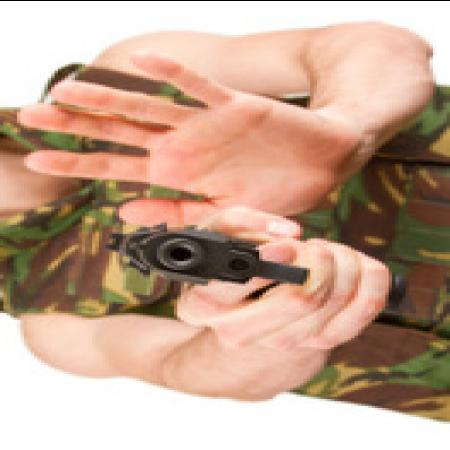Pistol: (89, 222, 327, 306)
